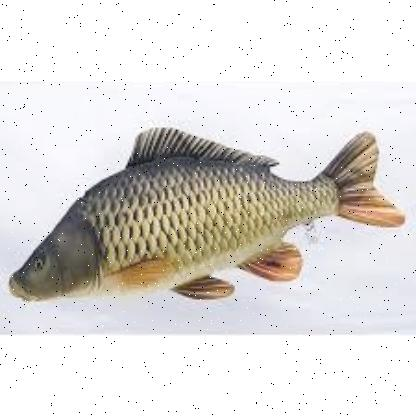ikan-mas: (13, 122, 409, 312)
